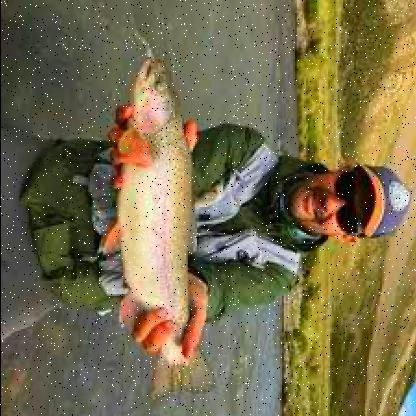fish: (104, 58, 216, 399)
